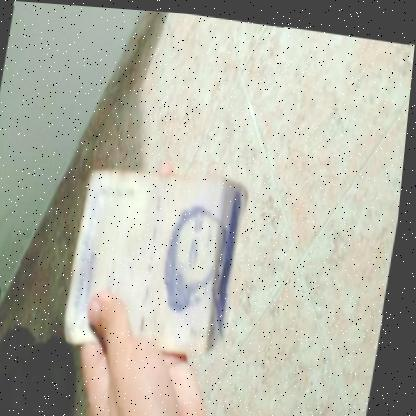ten-front-vef: (64, 159, 258, 362)
